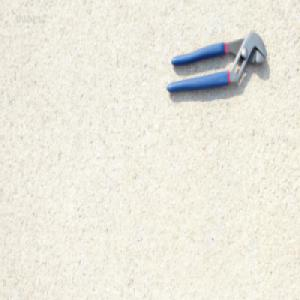Pliers: (165, 31, 266, 95)
